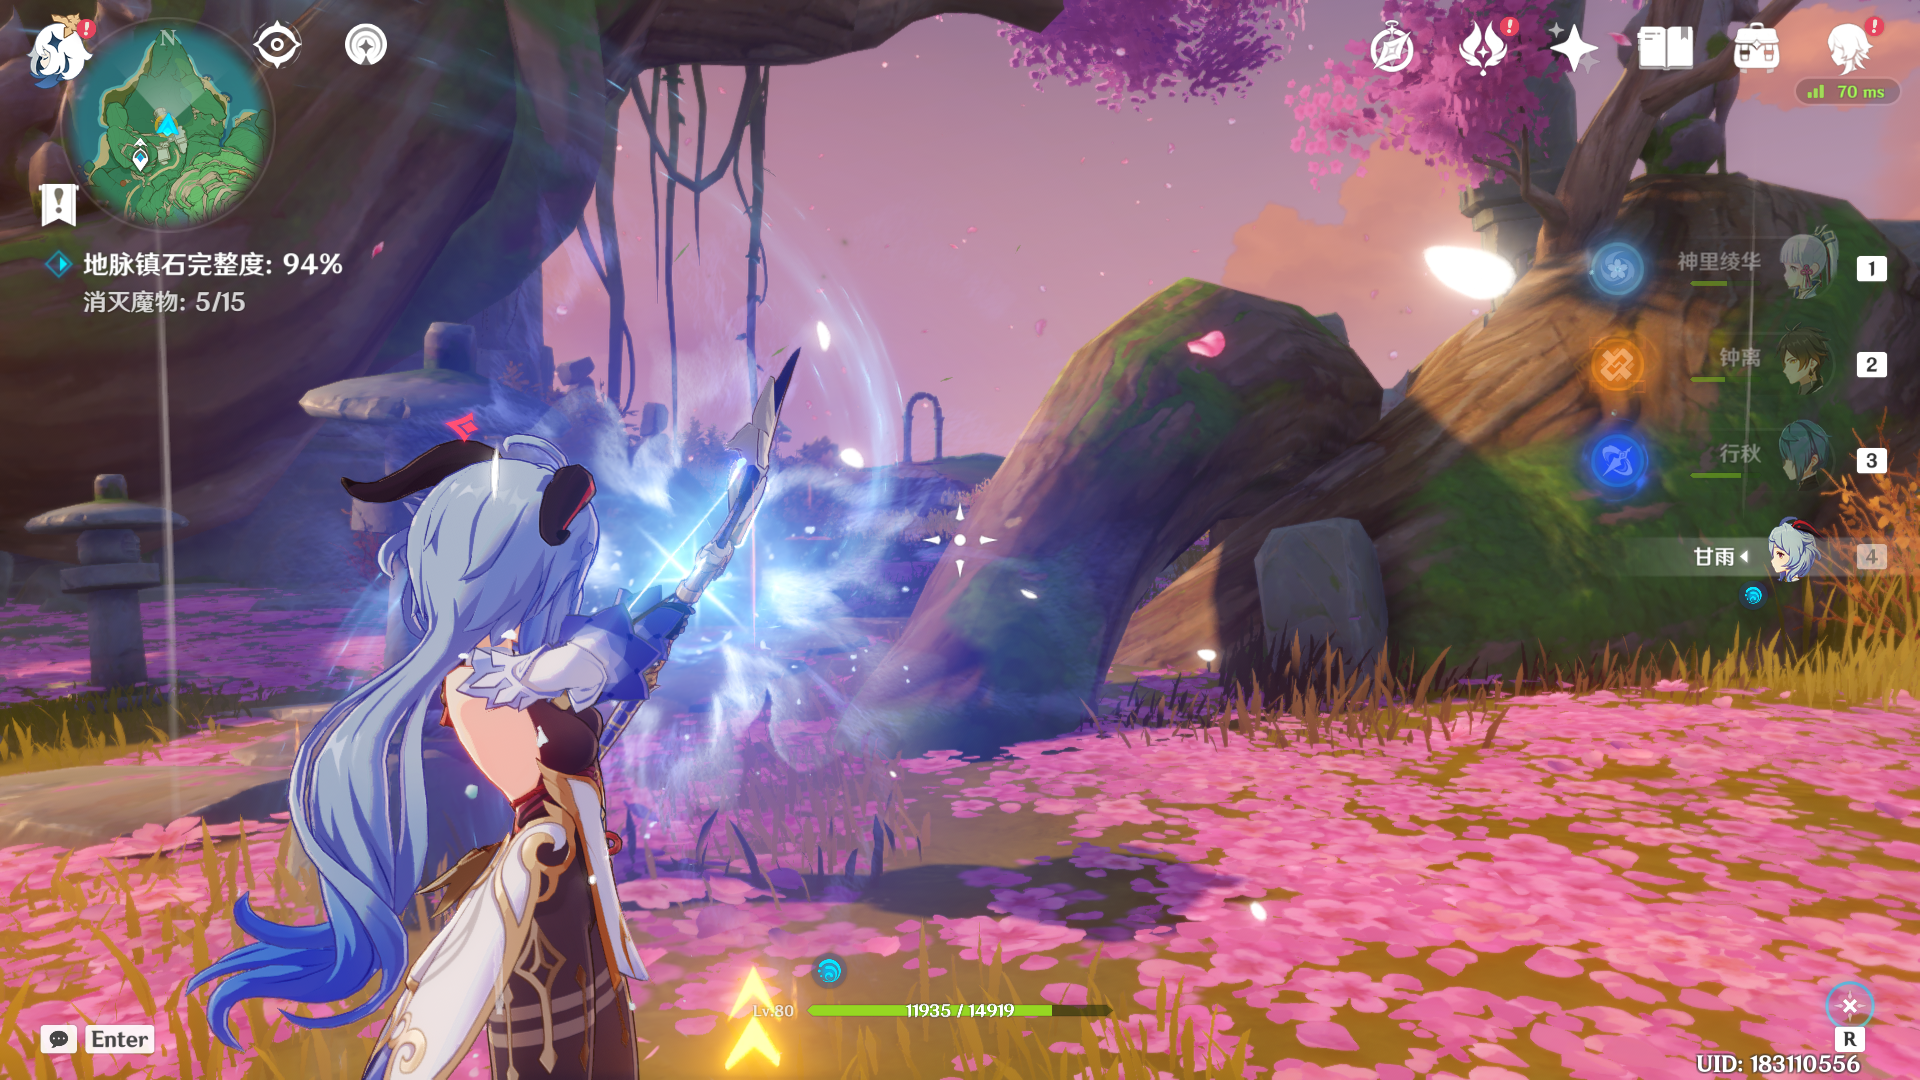character: (200, 382, 816, 1080)
